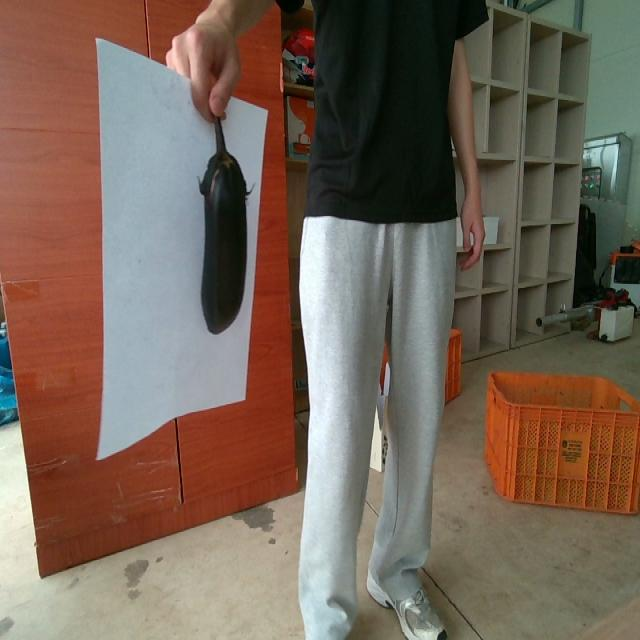Egg plant: (199, 117, 251, 333)
